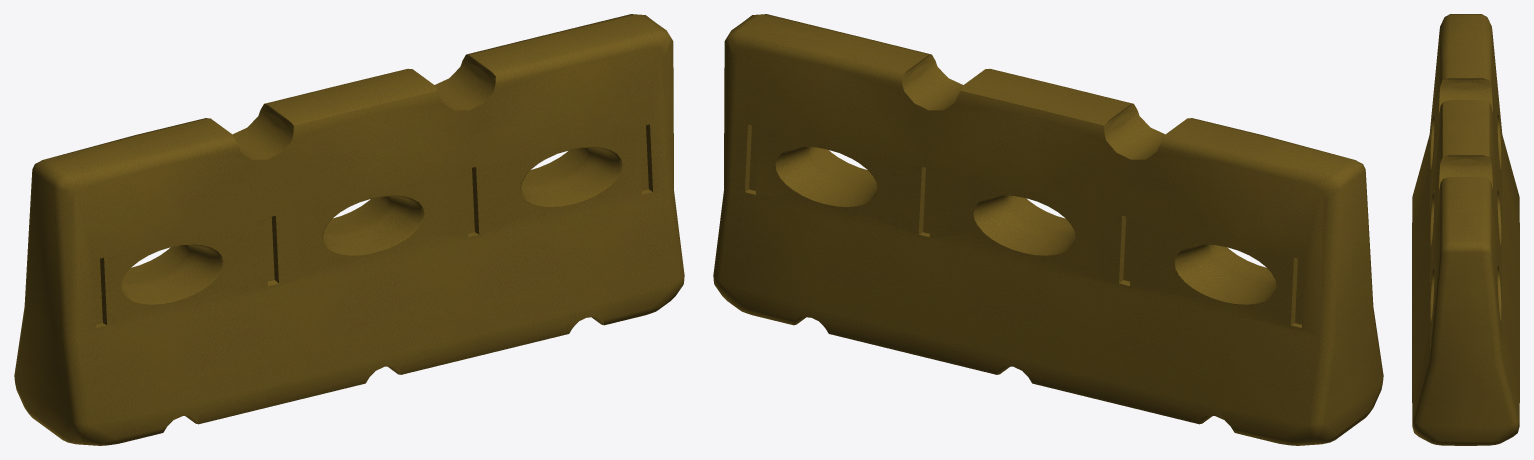
File: sm_stob_tran_001.fbx
3 views of the same model, side by side, from view 1: azimuth 30°, elevation 25°; view 2: azimuth 150°, elevation 25°; view 3: azimuth 270°, elevation 25° (orthographic). The views are drawn at different scales.
Visible parts, largest first — view 1: sm_stob_tran_001; view 2: sm_stob_tran_001; view 3: sm_stob_tran_001.
Part boxes in pixels (box(x1,y1,x2,y2)): sm_stob_tran_001: box(14, 14, 684, 445); sm_stob_tran_001: box(713, 14, 1383, 445); sm_stob_tran_001: box(1412, 14, 1519, 445).
Bounding box in the file's own units: 2.06 × 0.8419 × 0.4018.
1 material, 1 textured.
